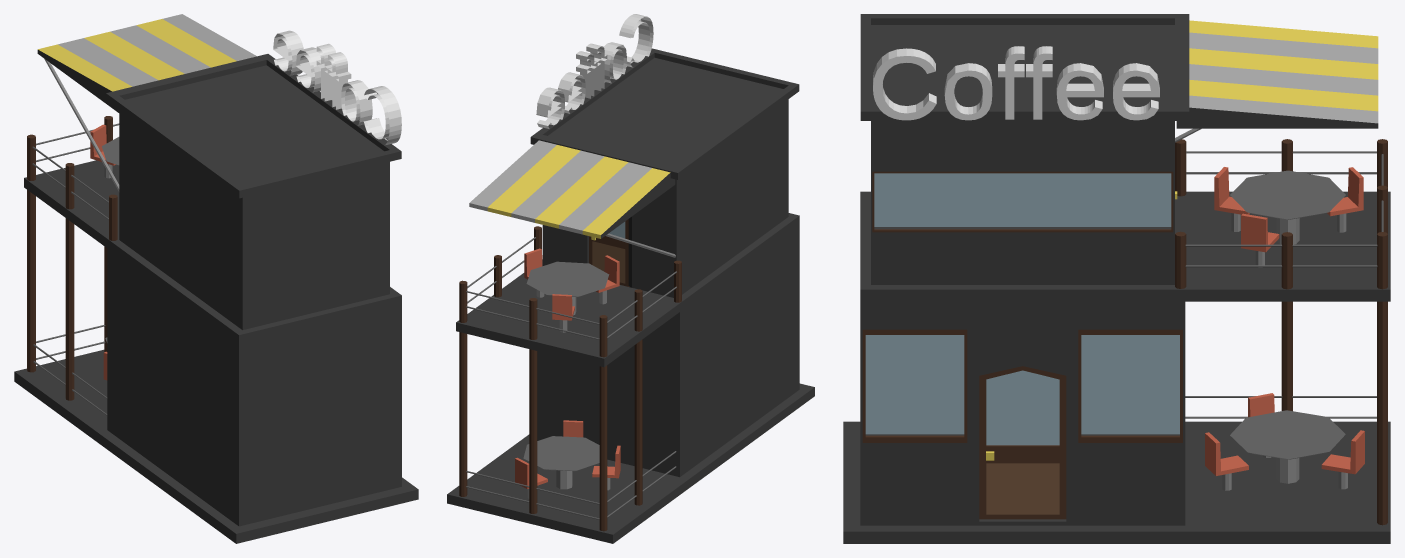
The model's file is coffe-pp.glb.
The picture shows the model from 3 angles, left to right: view 1: azimuth 30°, elevation 25°; view 2: azimuth 150°, elevation 25°; view 3: azimuth 270°, elevation 25°; orthographic projection. The views are drawn at different scales.
Visible parts, largest first — view 1: coffe-pp; view 2: coffe-pp; view 3: coffe-pp.
Boxes of the visible parts, x1=… form: coffe-pp: x1=14, y1=14, x2=418, y2=543; coffe-pp: x1=447, y1=14, x2=814, y2=543; coffe-pp: x1=843, y1=14, x2=1390, y2=543.
Size of the model in its own units: 2.97 by 6.15 by 6.26.
1 material, 1 textured.
